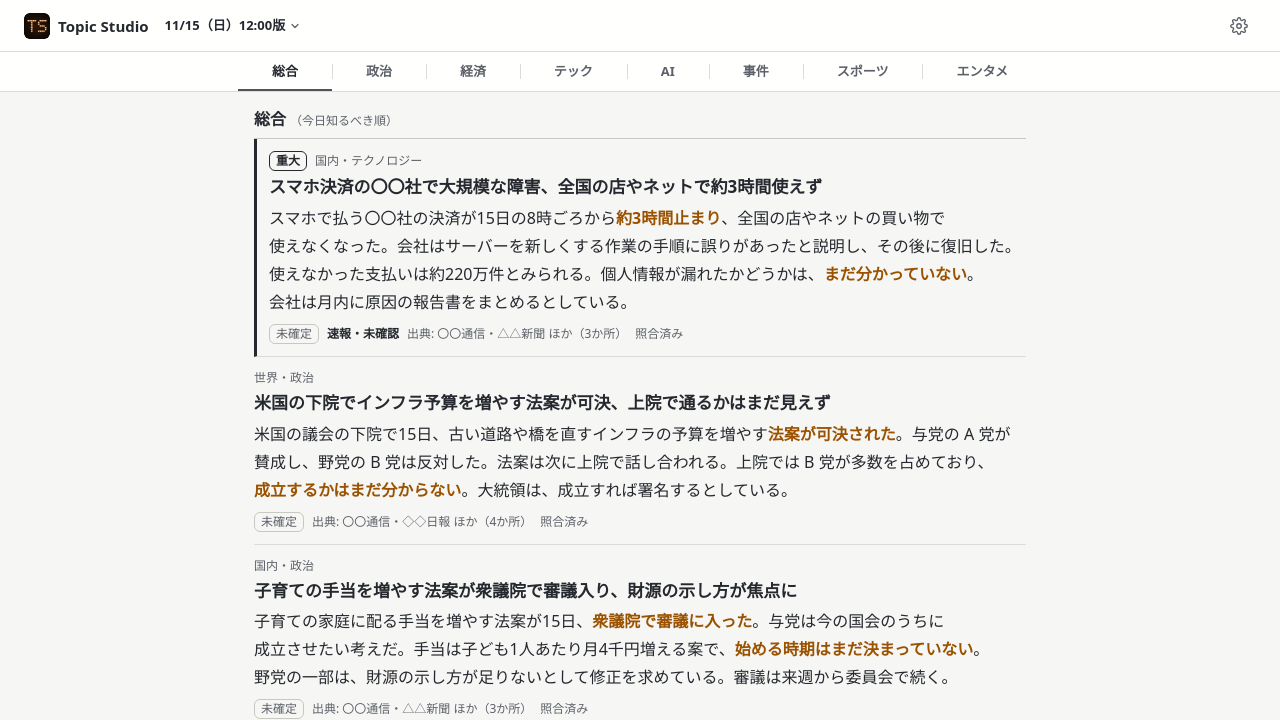
Scenario: S・M: 総合とジャンルの区切り › 切り替えの列を押すと、その区切りへ移り（scrollIntoView）、区切りの見出しへフォーカスを移し、押した物が今の区切り
Step 1. Click the button with test id "top-switcher-tab" showing "経済" → click(473, 72), box 426,52 -> 520,91
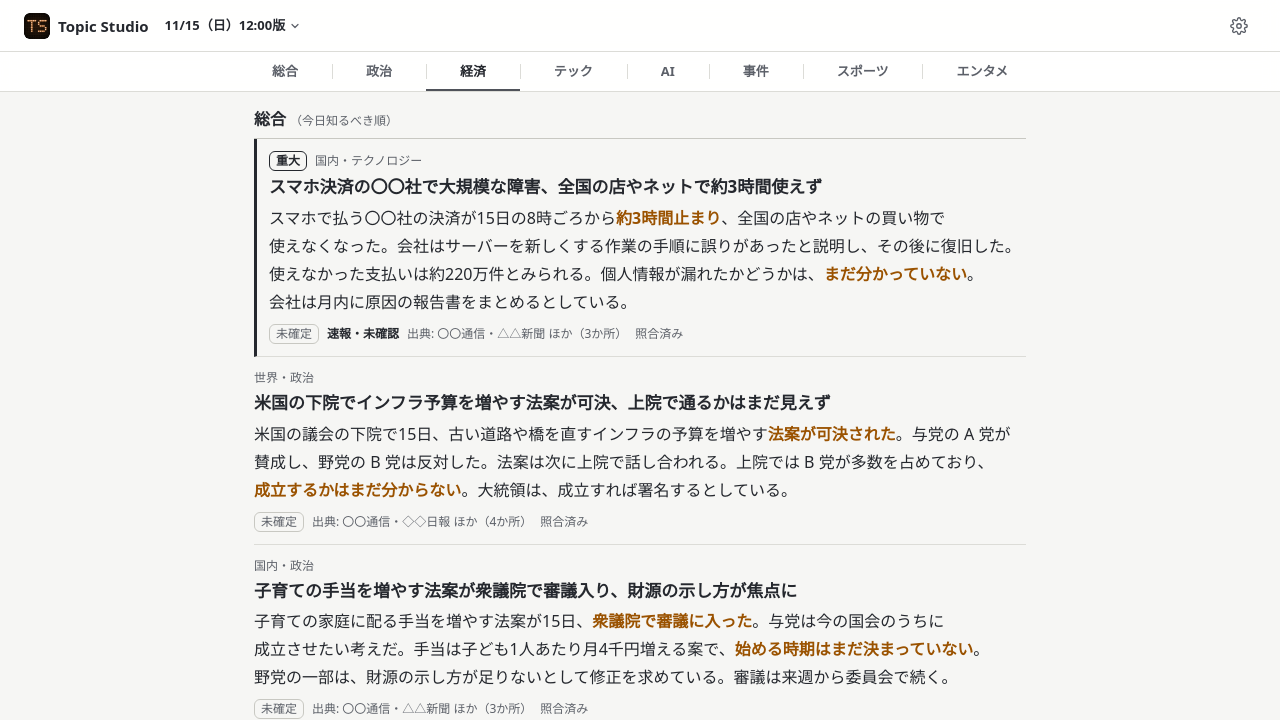
Result: the button with test id "top-switcher-tab" is marked as current at 426,52 -> 520,91
